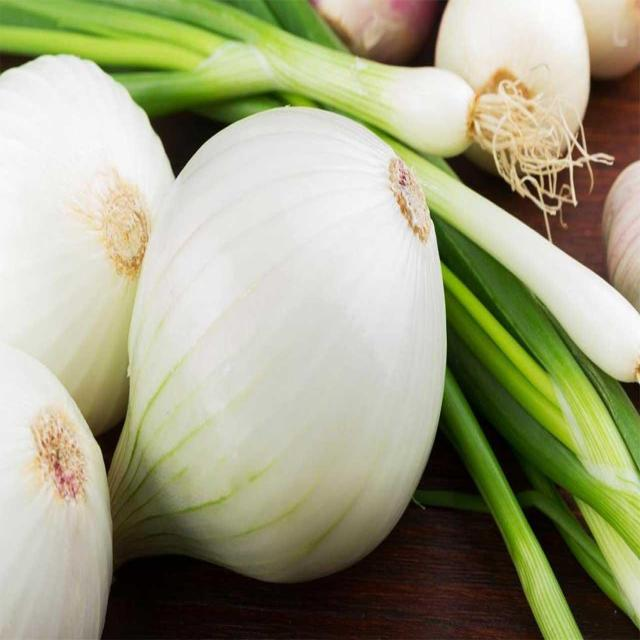Onion: (189, 0, 640, 387), (108, 105, 448, 585), (0, 0, 618, 246), (429, 154, 639, 640), (0, 54, 176, 437), (436, 0, 615, 244), (0, 342, 112, 640)
